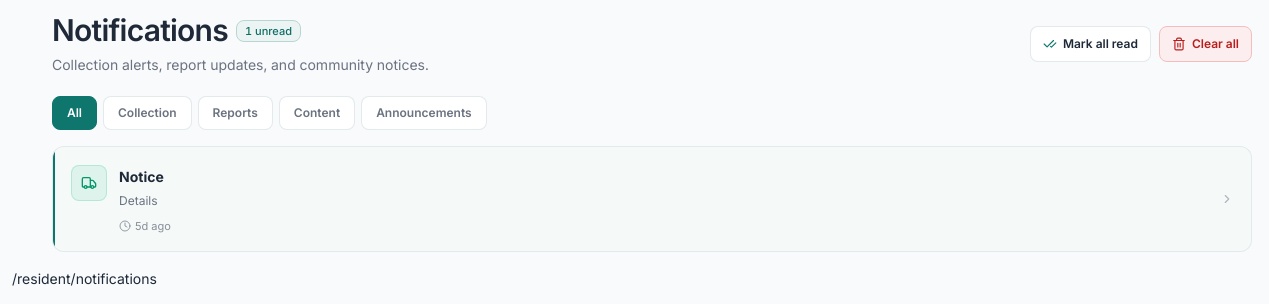
Test: navigates to tracking only after confirming the truck alert is current
Step 1. Click the button with class "resident-notification-row" → (89, 183), box [53, 147, 1251, 251]
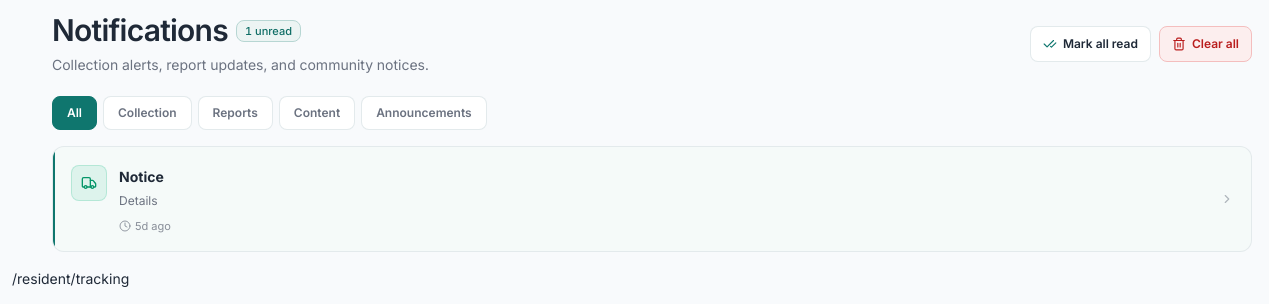
Result: the text with test id "location" reads "/resident/tracking" at [12, 270, 129, 286]
